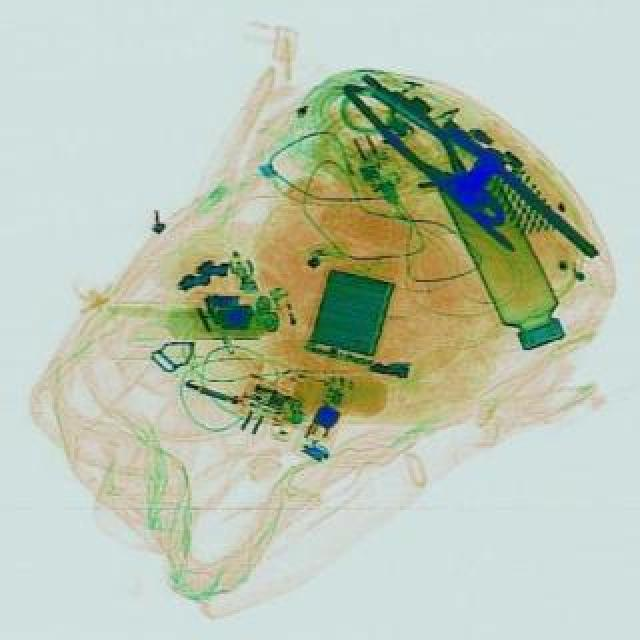wrench: (340, 64, 522, 244)
